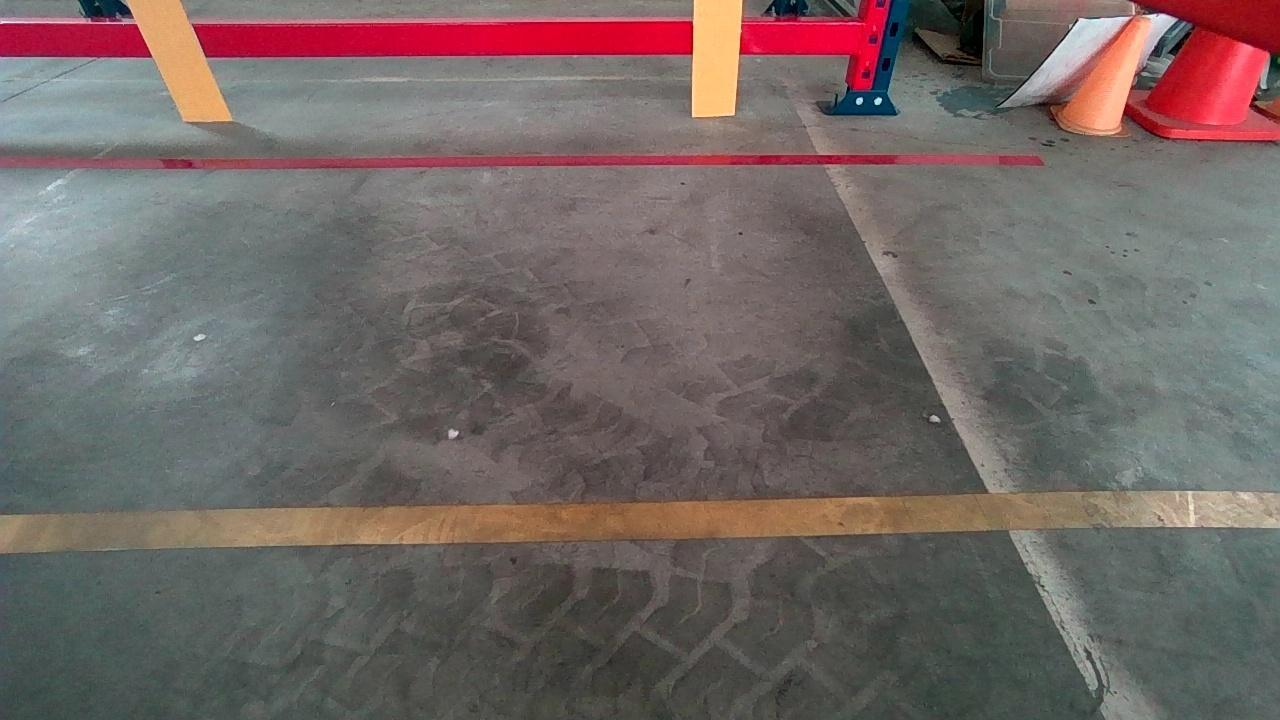h_rack: (0, 21, 862, 53)
orange_strip: (128, 1, 232, 119), (691, 0, 741, 115)
red_line: (0, 154, 1041, 168)
yellow_line: (3, 485, 1280, 555)
